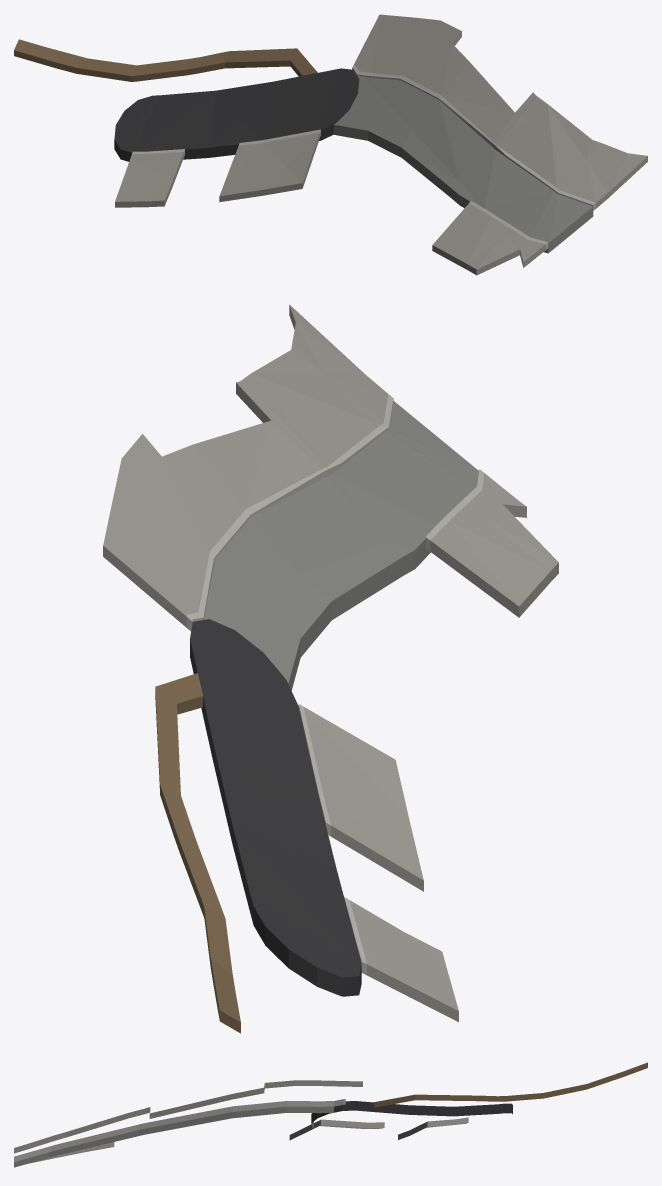
3 views of the same model, one above another, from view 1: azimuth 30°, elevation 25°; view 2: azimuth 150°, elevation 25°; view 3: azimuth 270°, elevation 25° (orthographic). The views are drawn at different scales.
Size of the model in its own units: 38.63 by 21.41 by 71.58.
